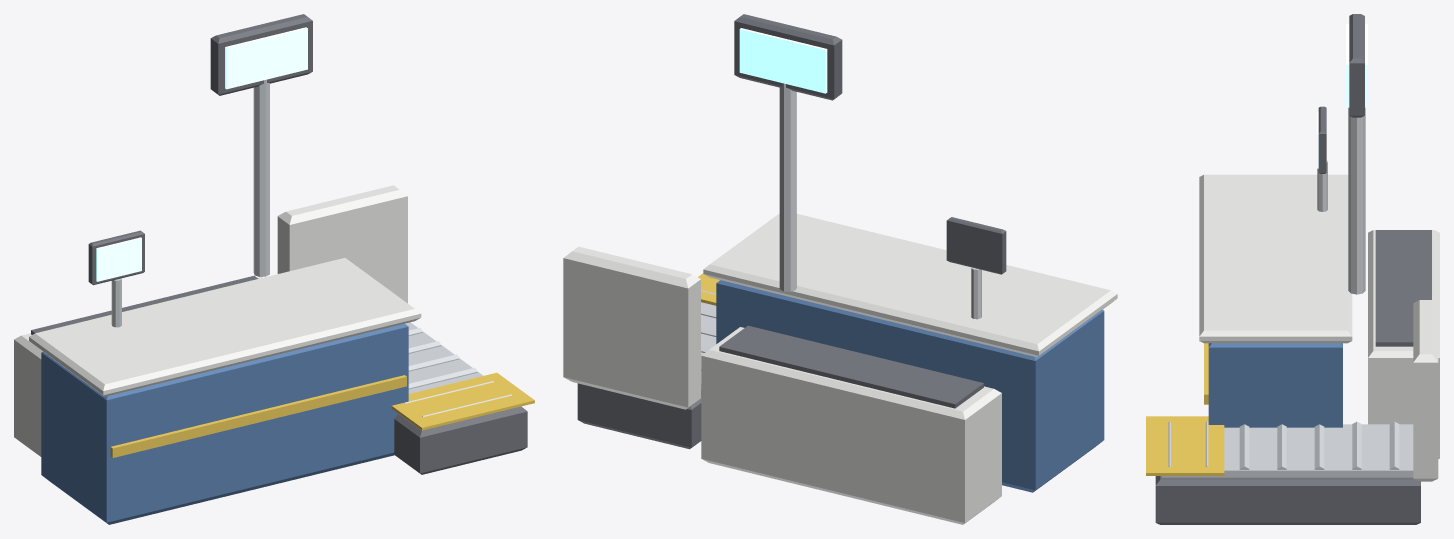
The model's file is airport-terminal-and-ground-operations-check-in-desk-ba7d92dc.glb.
3 renders of one model, left to right at view 1: azimuth 30°, elevation 25°; view 2: azimuth 150°, elevation 25°; view 3: azimuth 270°, elevation 25°, orthographic. The views are drawn at different scales.
Visible parts, largest first — view 1: check-in-desk; view 2: check-in-desk; view 3: check-in-desk.
Part boxes in pixels (<box>): check-in-desk: <box>14,14,534,524</box>; check-in-desk: <box>563,14,1117,524</box>; check-in-desk: <box>1146,14,1439,524</box>.
Size of the model in its own units: 3.11 by 2.87 by 1.88.
